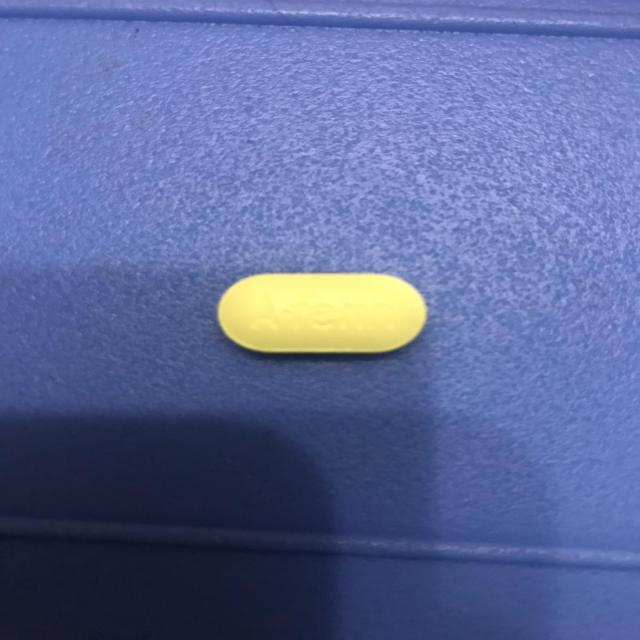pills: (208, 260, 439, 364)
